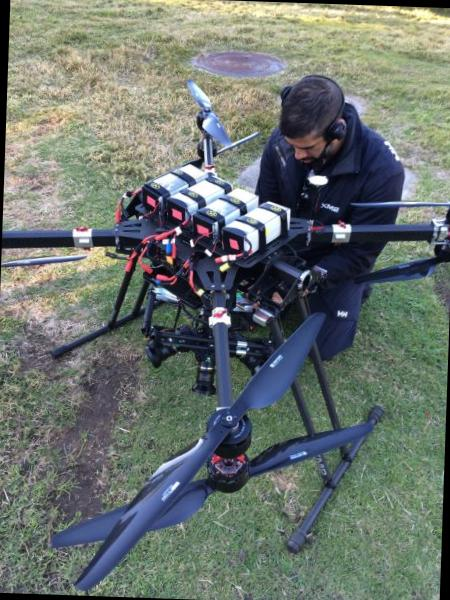drone: (0, 68, 450, 600)
